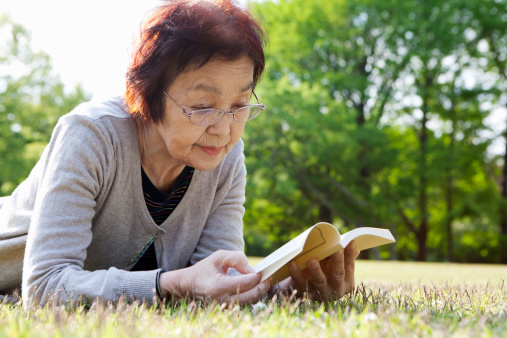deitado: (6, 8, 339, 308)
